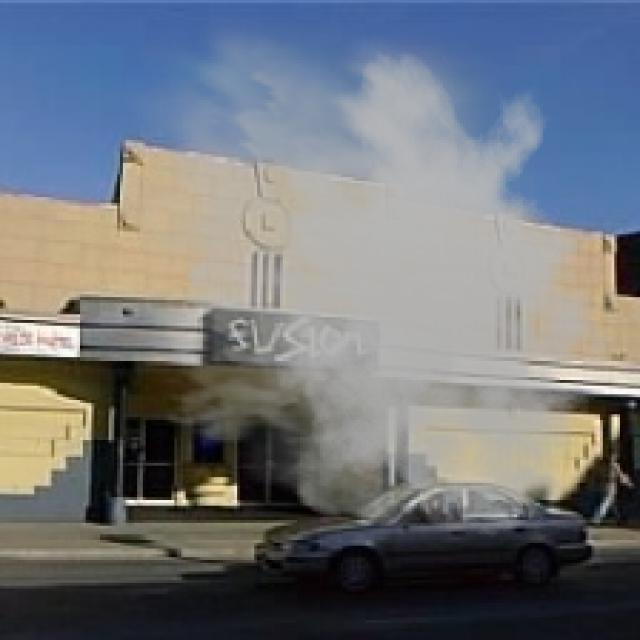Smoke: (103, 2, 632, 538)
